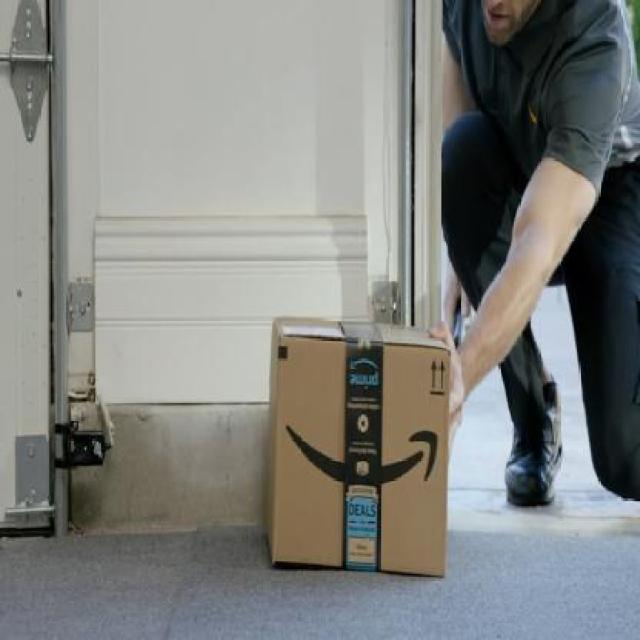cardboxes: (264, 317, 451, 580)
